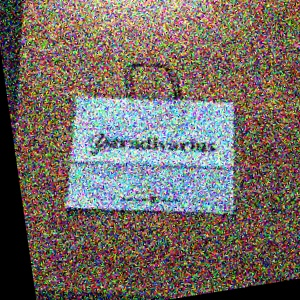stradivarius: (181, 28, 260, 175)
